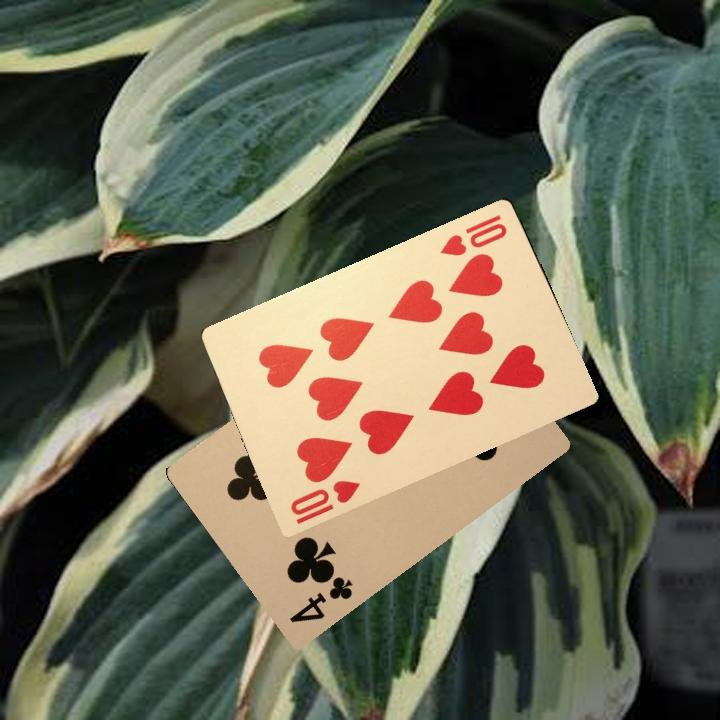10h: (286, 476, 362, 527), (436, 210, 510, 259)
4c: (285, 571, 356, 626)
